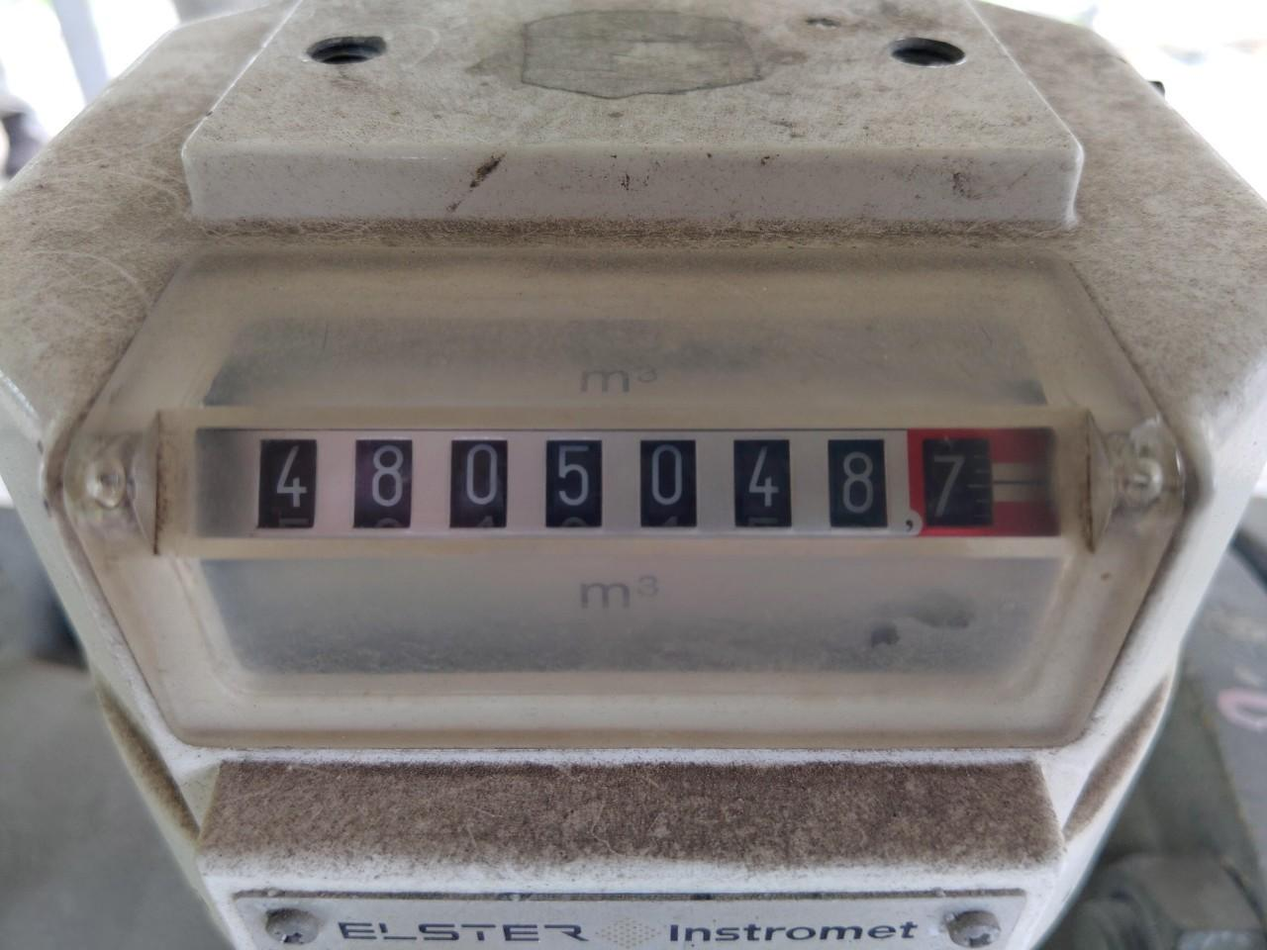analog_dial: (197, 429, 1060, 538)
